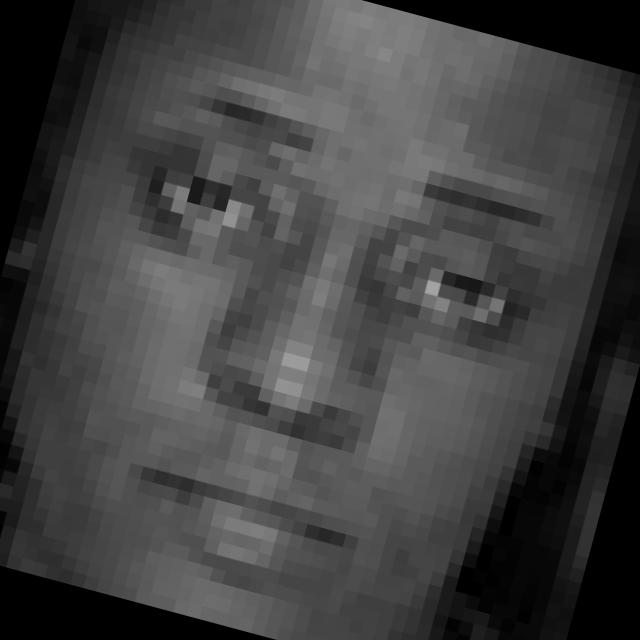neutral: (16, 53, 589, 640)
